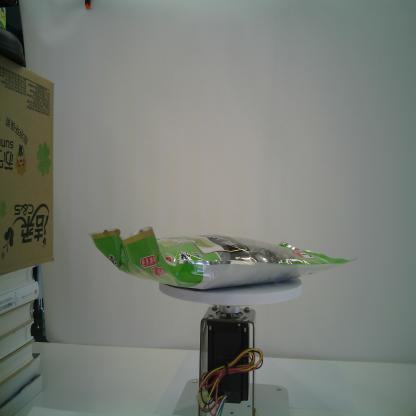Dried Food: (86, 224, 364, 292)
